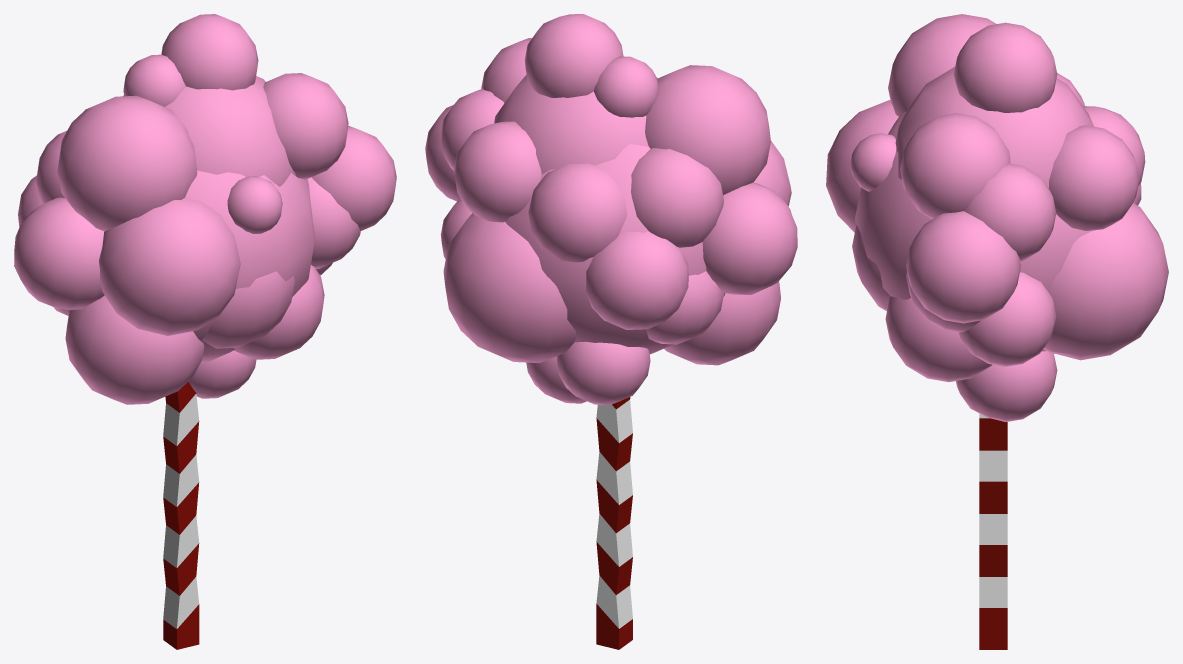
The model's file is AlgddonConPalo.fbx.
3 views of the same model, side by side, from view 1: azimuth 30°, elevation 25°; view 2: azimuth 150°, elevation 25°; view 3: azimuth 270°, elevation 25° (orthographic). The views are drawn at different scales.
Parts seen in each view (by area): view 1: AlgodonEnPalo; view 2: AlgodonEnPalo; view 3: AlgodonEnPalo.
Part boxes in pixels (bbox=[...]): AlgodonEnPalo: bbox=[14, 14, 396, 649]; AlgodonEnPalo: bbox=[425, 14, 797, 649]; AlgodonEnPalo: bbox=[826, 14, 1168, 649].
Bounding box in the file's own units: 712 × 1150 × 564.
